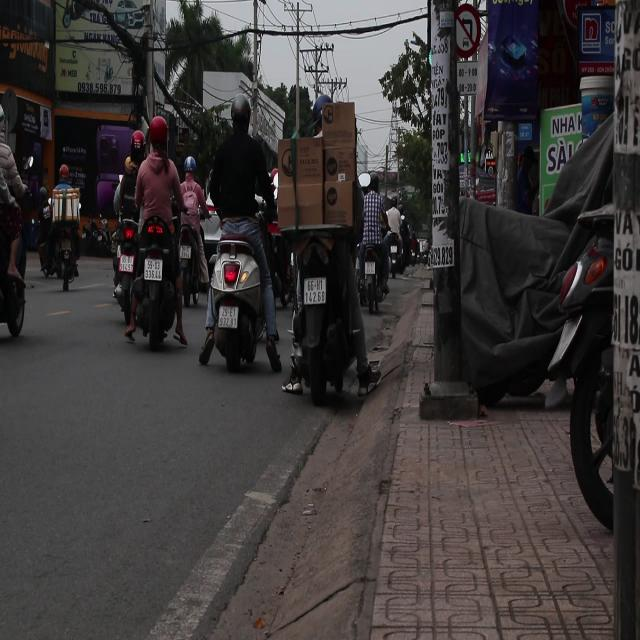motorbike: (284, 230, 374, 408), (116, 193, 190, 353), (212, 218, 274, 382), (42, 171, 88, 287)
